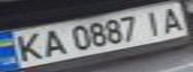0: (66, 22, 90, 52)
7: (118, 12, 142, 43)
8: (103, 16, 127, 45), (87, 19, 109, 47)
A: (154, 4, 190, 34), (36, 27, 69, 57)
I: (139, 8, 169, 37)
K: (6, 29, 48, 63)
